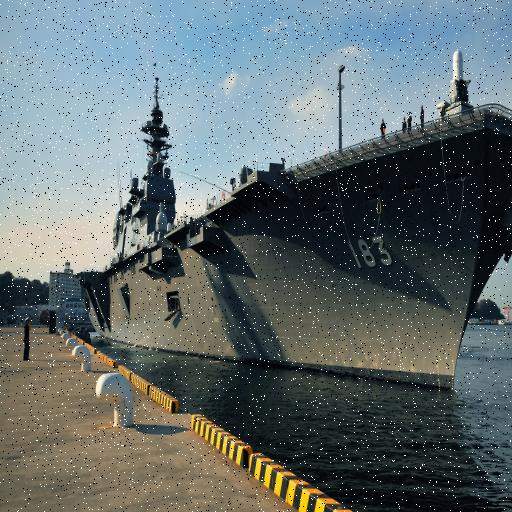Portanaves: (75, 46, 512, 401)
